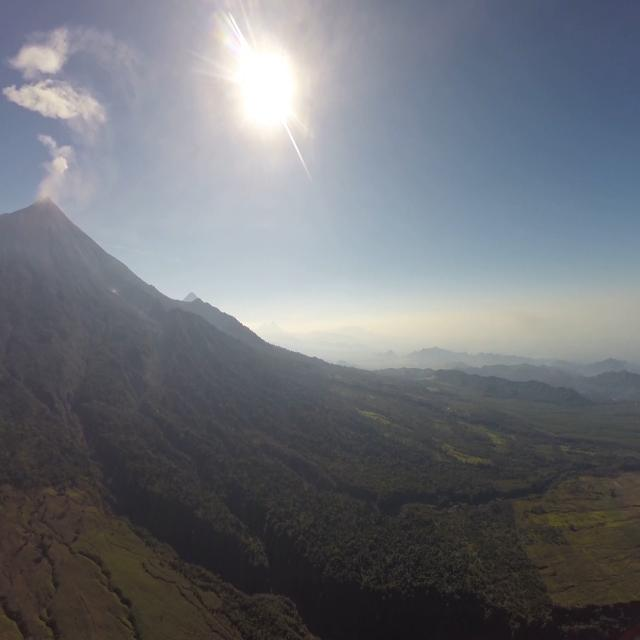Plume: (1, 81, 105, 125), (34, 126, 78, 207), (9, 28, 76, 80)
Summit: (26, 191, 64, 222)
